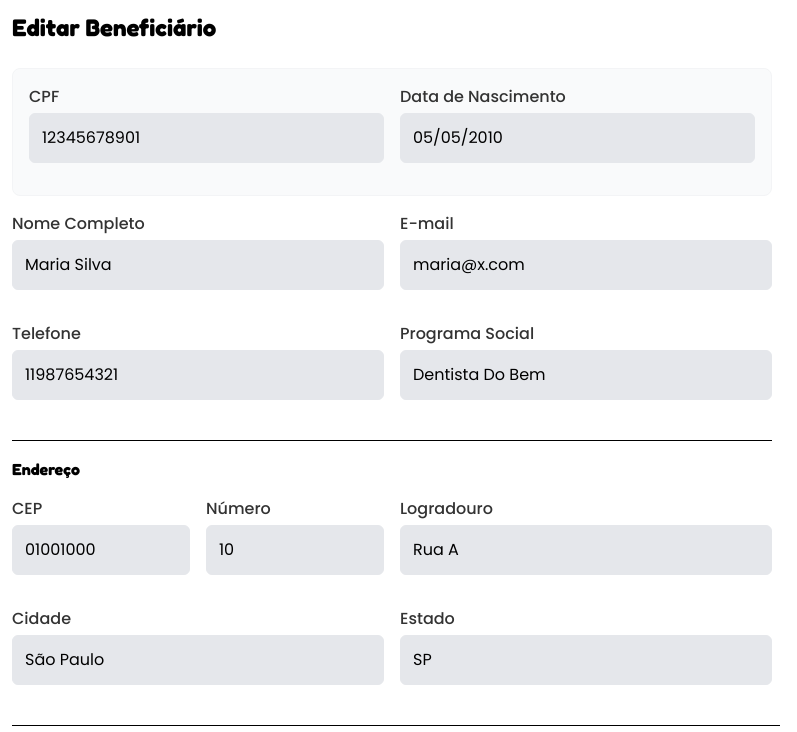
Test: UpdateBeneficiario (editar beneficiário) › trocar o CEP consulta o ViaCEP e preenche logradouro, cidade e estado
Replace the text in the field labelled "CEP" with "13010000" at (101, 550), box [12,525,190,575]
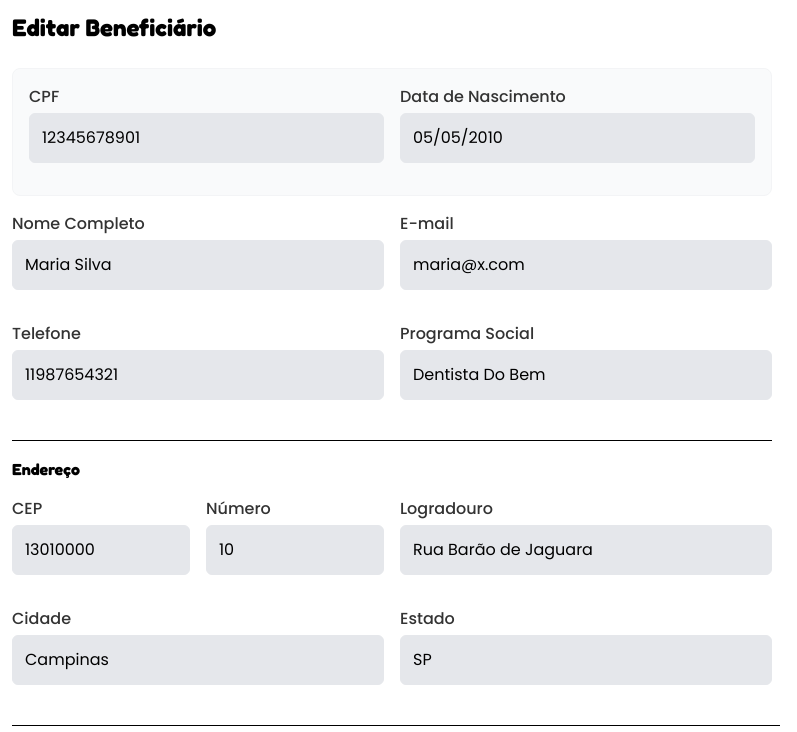
Check: the field showing "Campinas" is shown, box [12,635,384,685]
Check: the field showing "Rua Barão de Jaguara" is shown, box [400,525,772,575]
